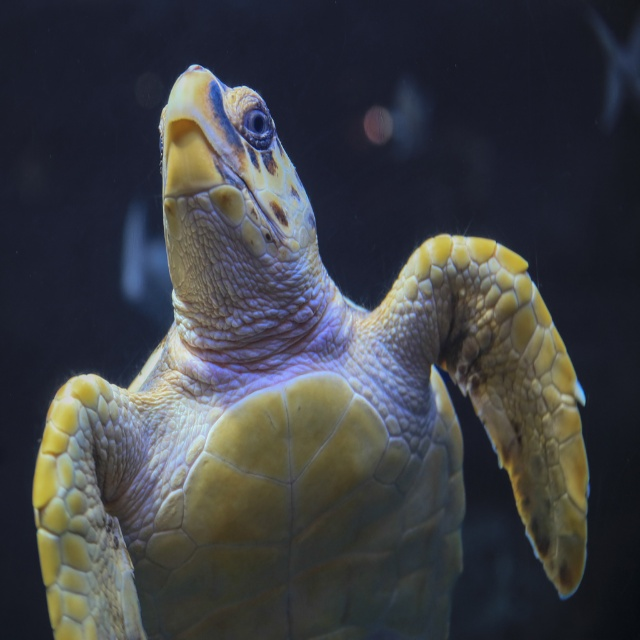Sea turtle: (31, 63, 588, 639)
